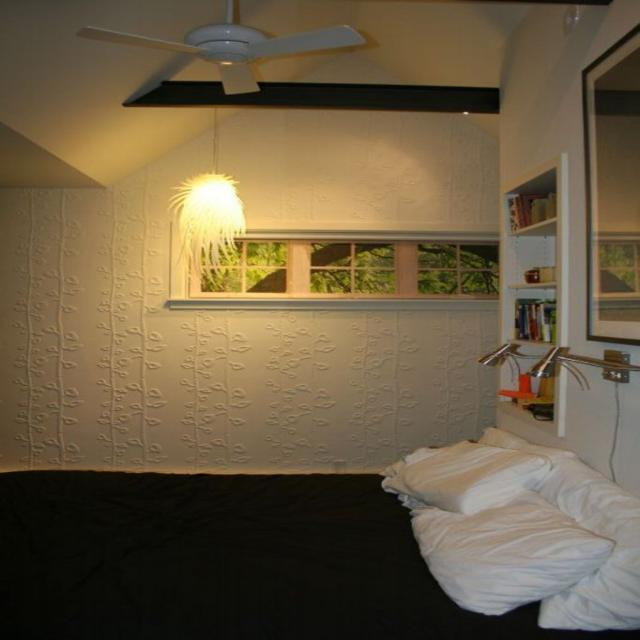Bulb: (78, 0, 365, 97)
